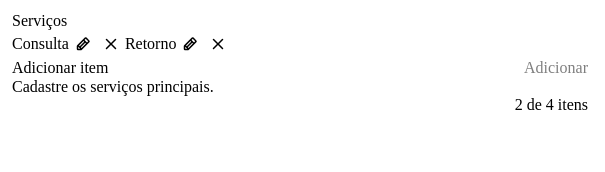
Test: TagInput › remove o último item com Backspace e recusa duplicatas
This screenshot has width=605, height=172.
Press Backspace in the field labelled "Serviços", box [12, 59, 524, 77]
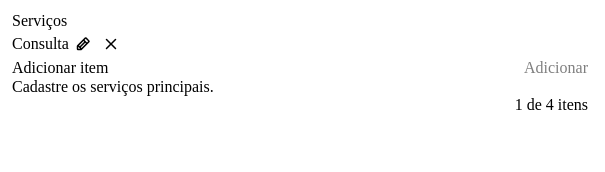
Check: the text "Retorno" is gone
In the field labelled "Serviços": (268, 68) [12, 59, 524, 77], type "consulta"
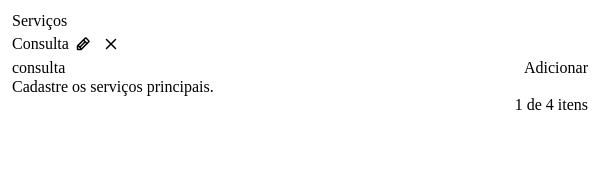
Press Enter in the field labelled "Serviços", box [12, 59, 524, 77]
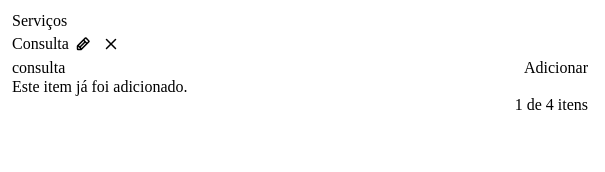
Check: the message reads "Este item já foi adicionado.", box [12, 78, 188, 95]
